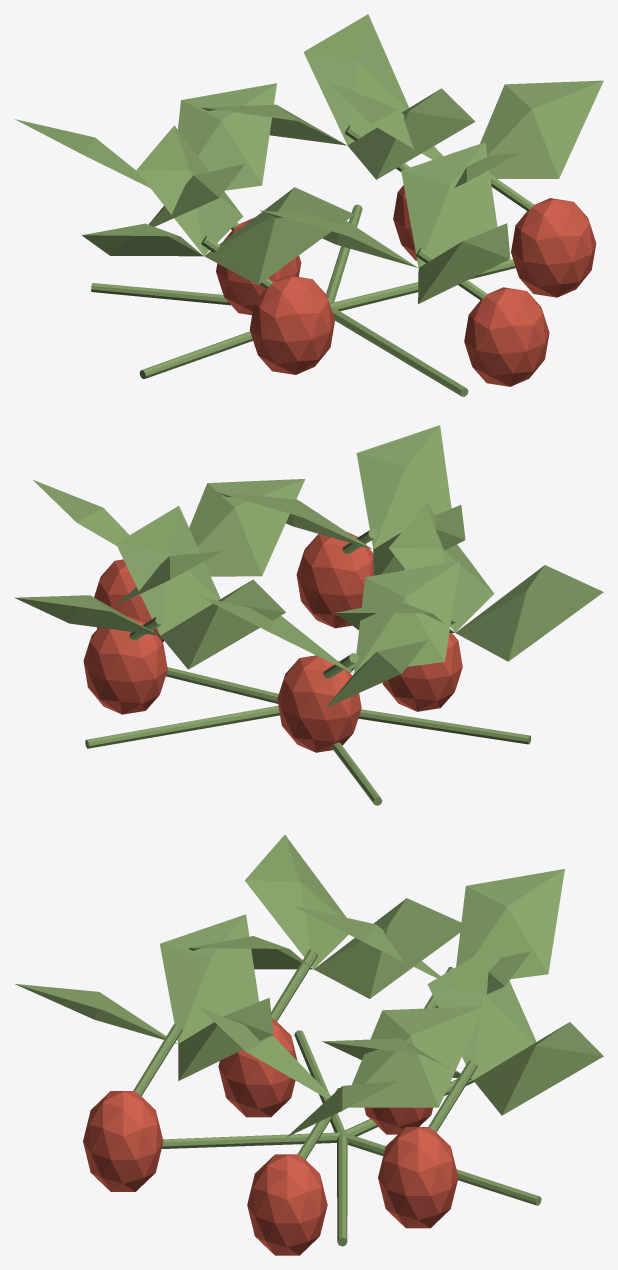
3 renders of one model, top to bottom at view 1: azimuth 30°, elevation 25°; view 2: azimuth 150°, elevation 25°; view 3: azimuth 270°, elevation 25°, orthographic. The views are drawn at different scales.
Visible parts, largest first — view 1: GF-235 Runner rooted strawberry patch batched; view 2: GF-235 Runner rooted strawberry patch batched; view 3: GF-235 Runner rooted strawberry patch batched.
Part boxes in pixels (x1,y1,x2,y2): GF-235 Runner rooted strawberry patch batched: (14, 14, 603, 396); GF-235 Runner rooted strawberry patch batched: (14, 425, 603, 805); GF-235 Runner rooted strawberry patch batched: (15, 835, 603, 1255).
Bounding box in the file's own units: 0.3572 × 0.11 × 0.3222.
